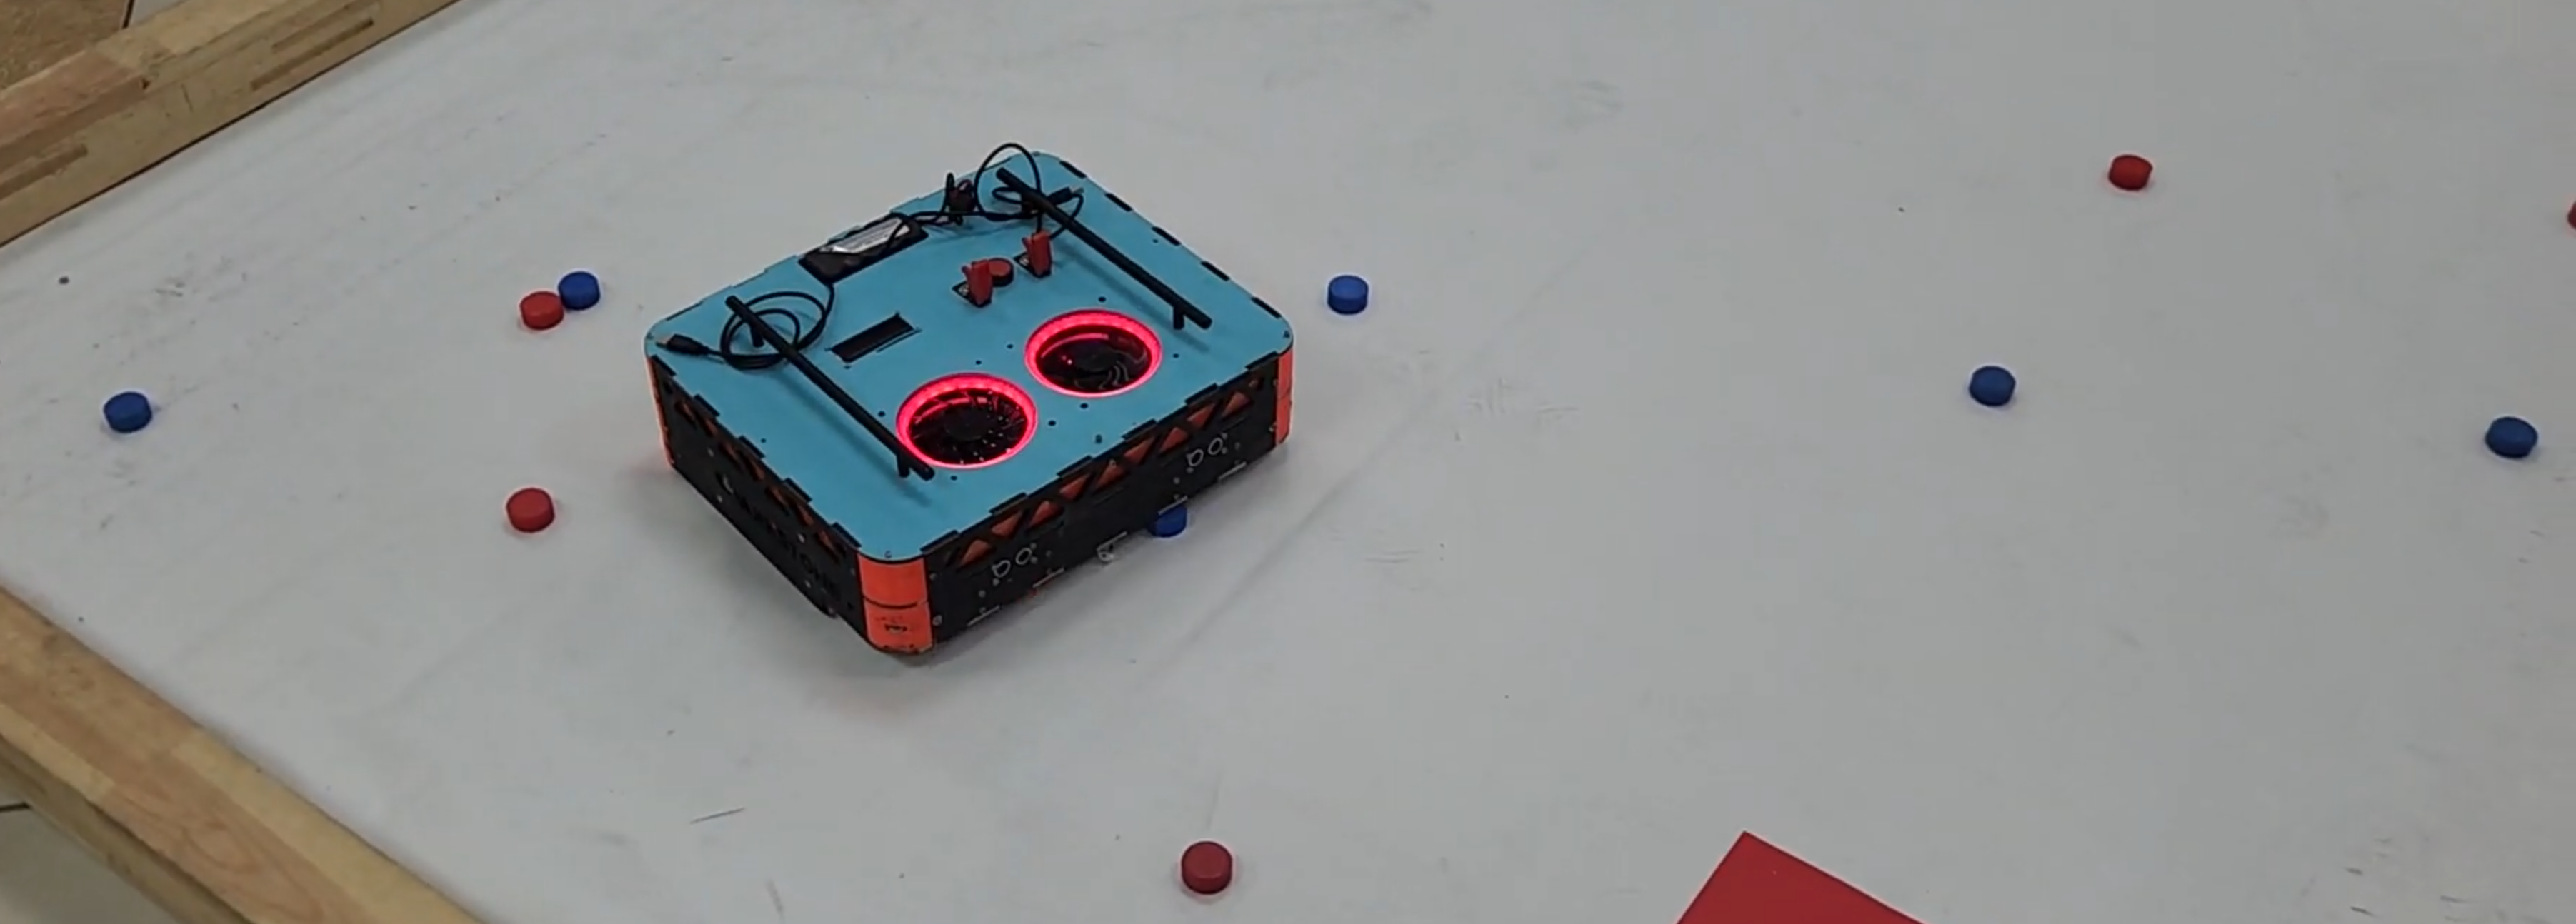blue_puck: (1968, 363, 2017, 410), (2486, 417, 2538, 461), (1326, 271, 1375, 315), (103, 391, 149, 430), (559, 269, 598, 310)
red_puck: (1176, 839, 1235, 891), (517, 287, 563, 332), (508, 486, 550, 528), (2106, 153, 2150, 190)
